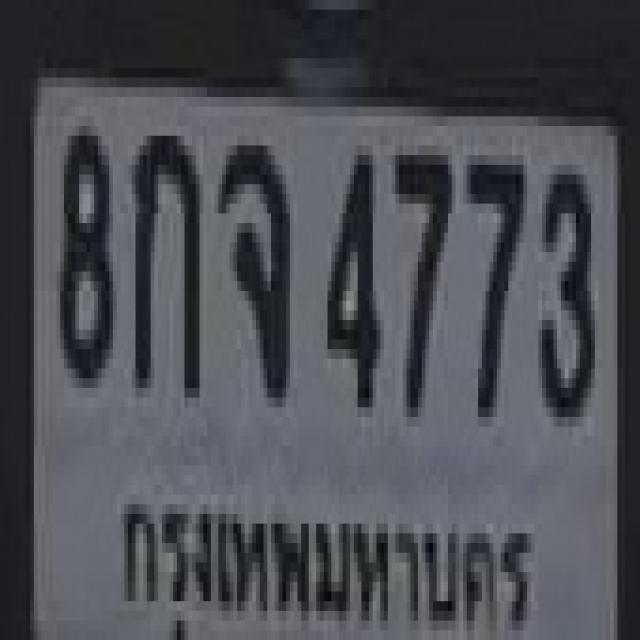3: (535, 155, 591, 407)
4: (324, 146, 376, 398)
7: (463, 146, 520, 408), (392, 146, 448, 408)
8: (57, 116, 109, 378)
A01: (132, 126, 196, 388)
A08: (215, 136, 286, 388)
BKK: (112, 470, 554, 640)
